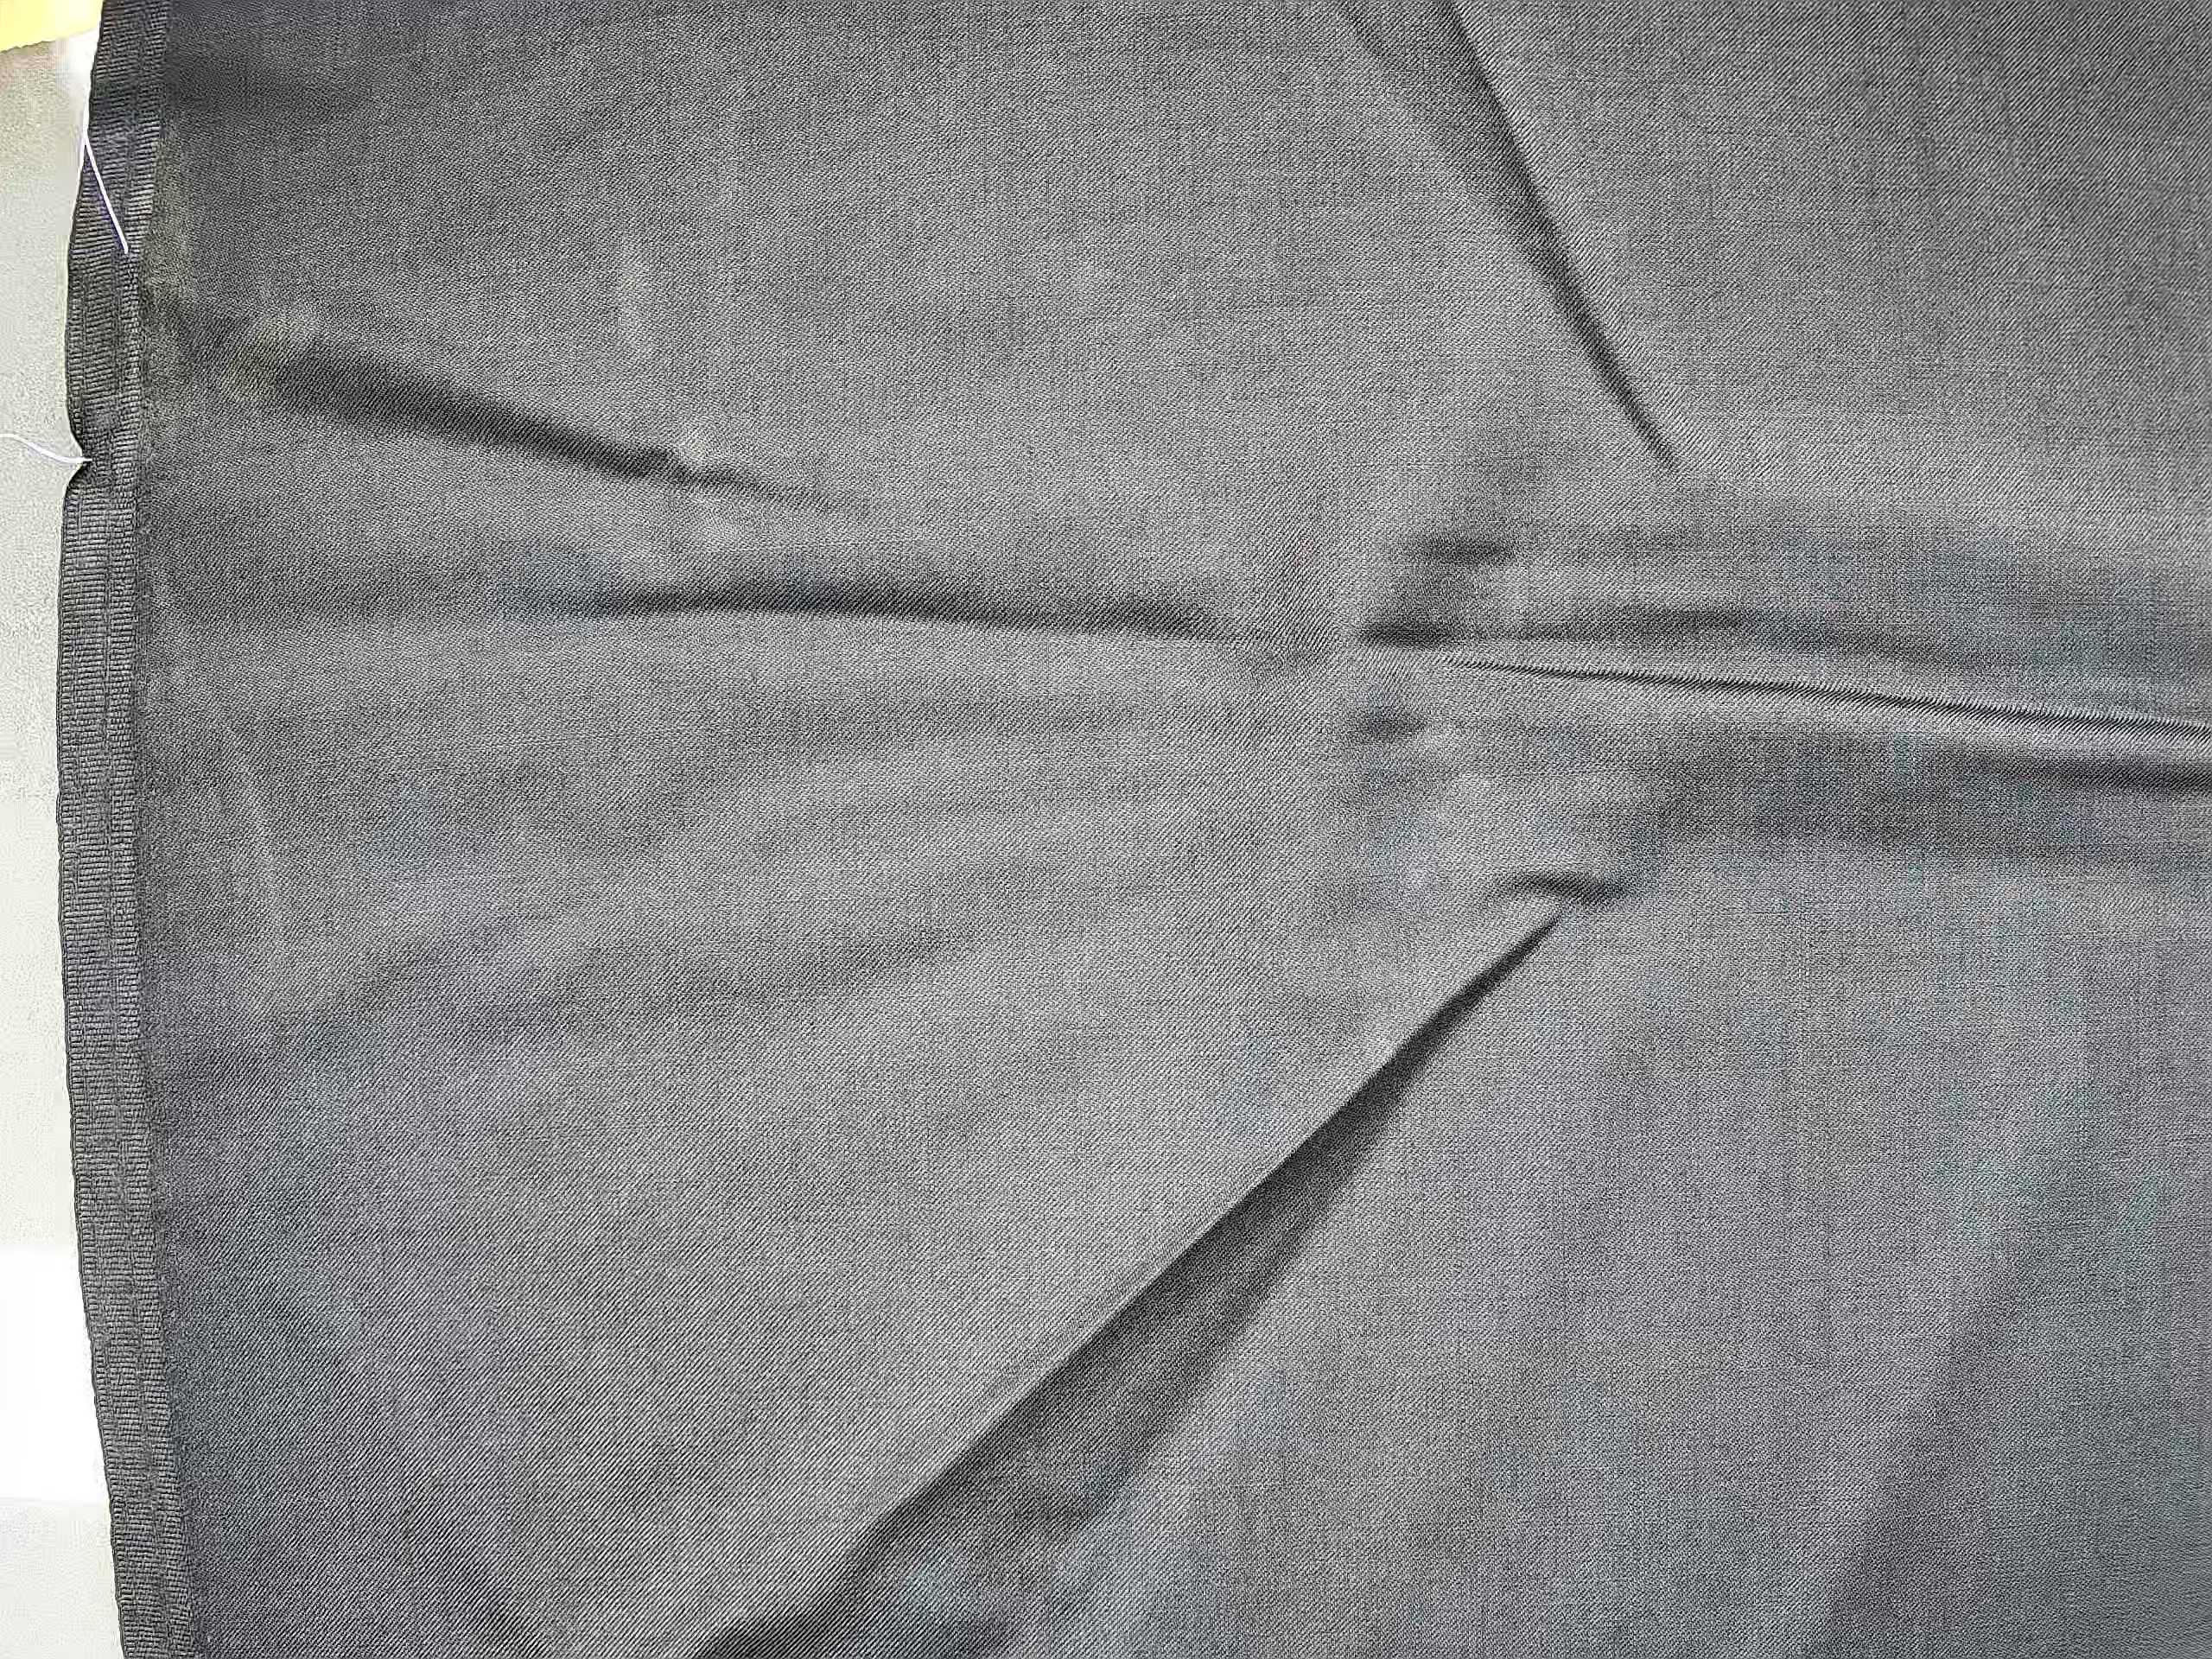others: (587, 82, 766, 582), (155, 565, 296, 1025), (207, 295, 326, 403)
